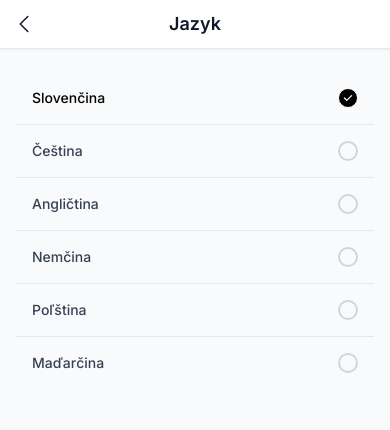
mobile language settings header with the real language provider › updates the mobile header and persists choosing pl
This screenshot has width=390, height=430.
Click the button "Poľština". click: (59, 310)
box: [16,284,374,336]
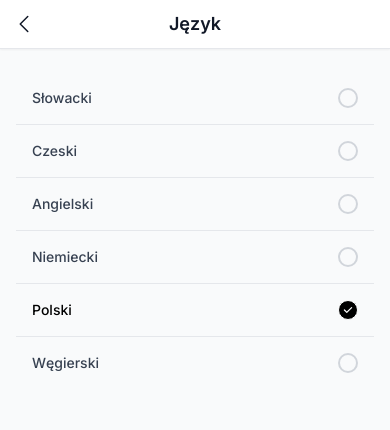
Expected: the 2nd icon is shown, [342,304,354,316]
Now the heading "Język" is shown, box [169,13,221,35]
